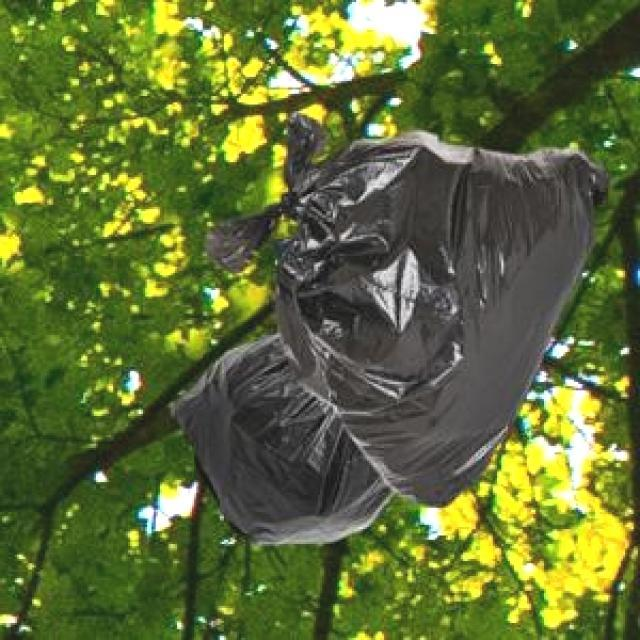Trashbag: (204, 103, 611, 510)
